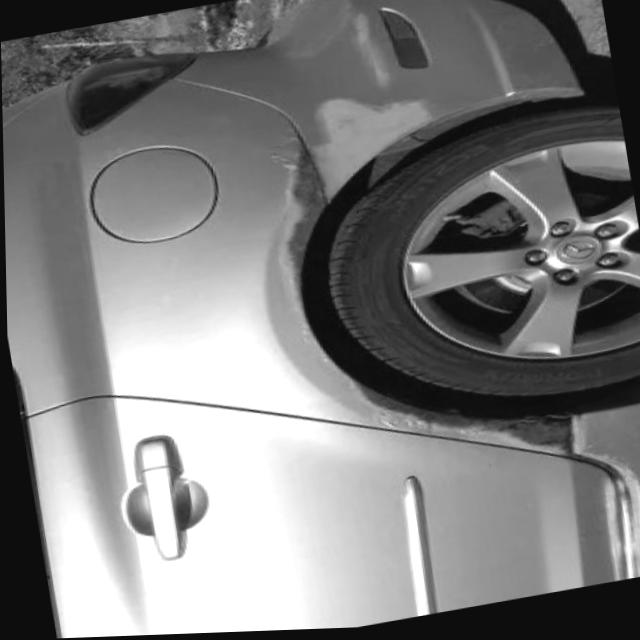Paint-fading: (312, 96, 435, 176)
Rust: (353, 380, 632, 516), (279, 130, 353, 327)
